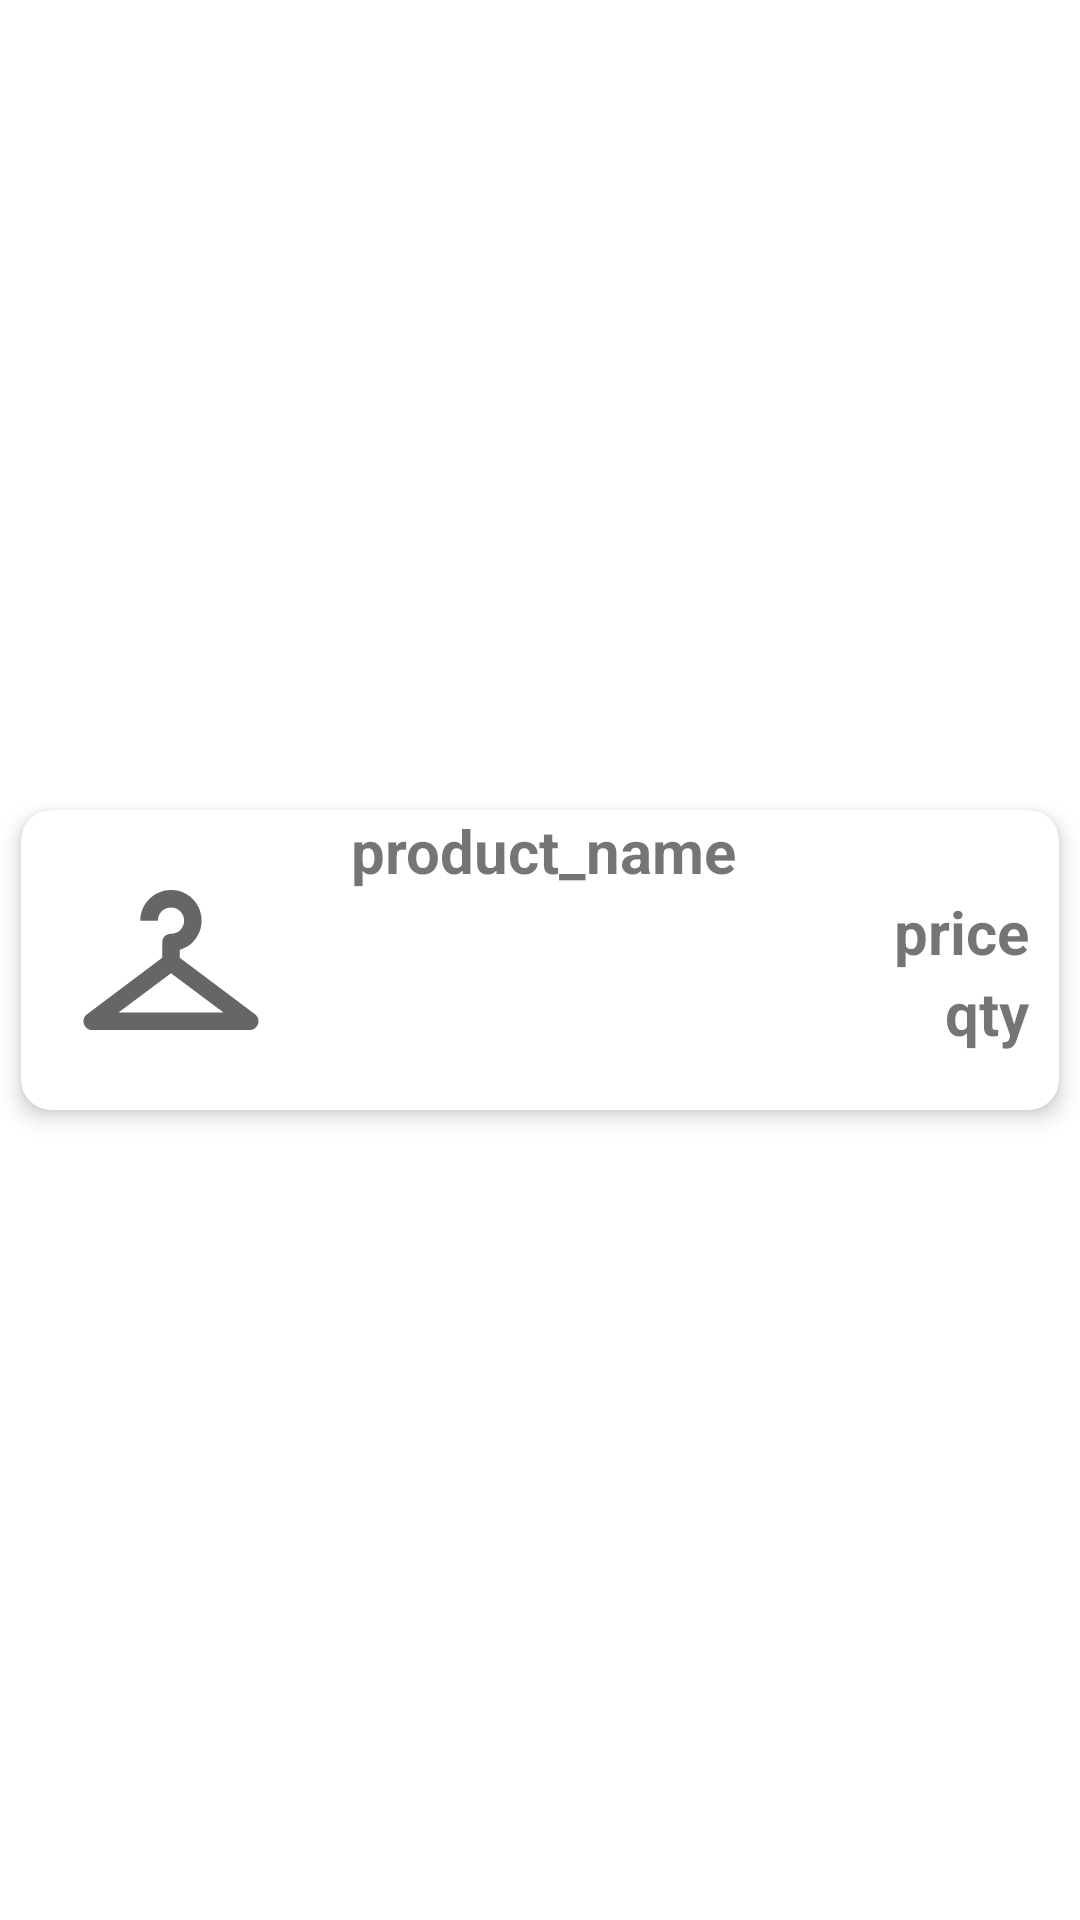

Where to tap for icons on this 1080 x 1920 app screen, as point (x, y):
checkroom: point (140, 929)
